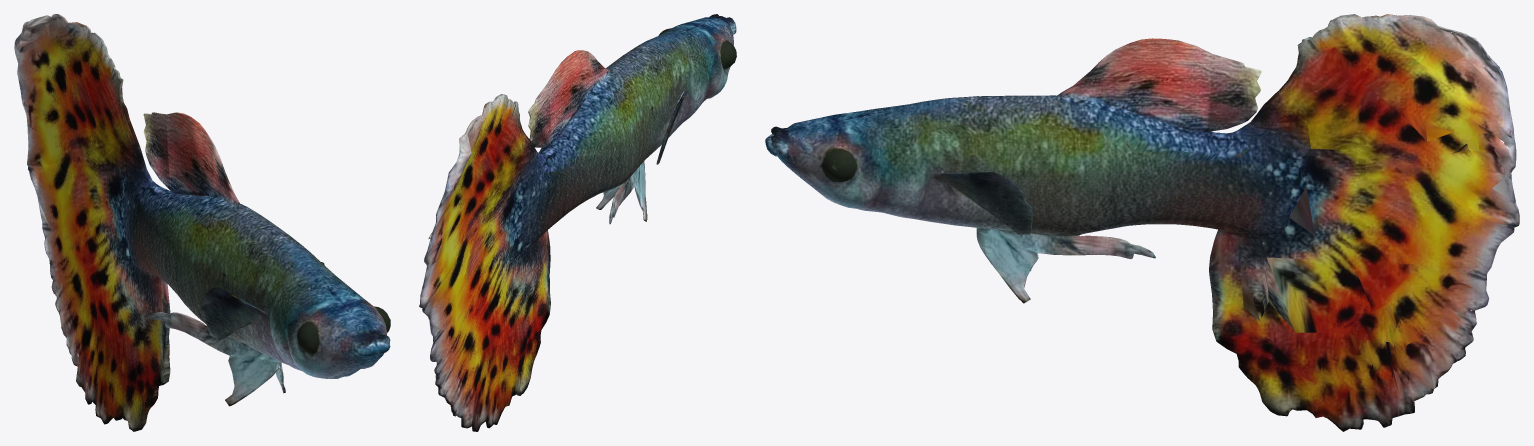
Rendered from guppy.glb.
3 renders of one model, left to right at view 1: azimuth 30°, elevation 25°; view 2: azimuth 150°, elevation 25°; view 3: azimuth 270°, elevation 25°, orthographic. The views are drawn at different scales.
Parts seen in each view (by area): view 1: geometry_0.001; view 2: geometry_0.001; view 3: geometry_0.001.
Part boxes in pixels (<box>): geometry_0.001: <box>14,14,390,431</box>; geometry_0.001: <box>419,14,736,431</box>; geometry_0.001: <box>765,14,1519,431</box>.
Bounding box in the file's own units: 0.00587 × 0.0201 × 0.0332.
2 materials, 2 textured.
